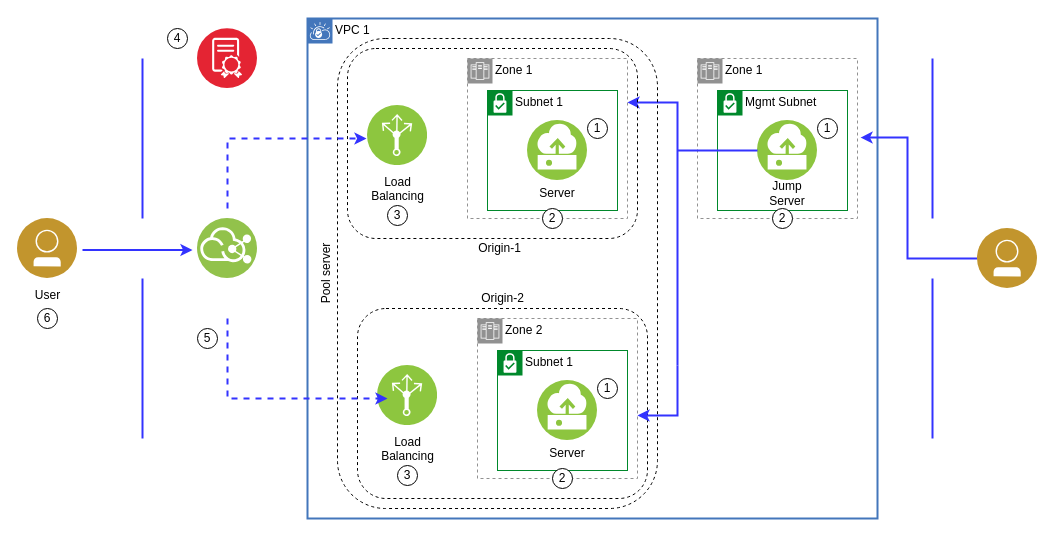
Some shapes in this 1054 by 536 pixel diagram are drawn without their labels. The shapes that lost their labels are listed below. From the top down, each one's centre as x and y in pixels, then its label:
At point 227,58: "Certificate Manager".
At point 227,248: "Internet Services".
At point 1007,258: "DevOps".
